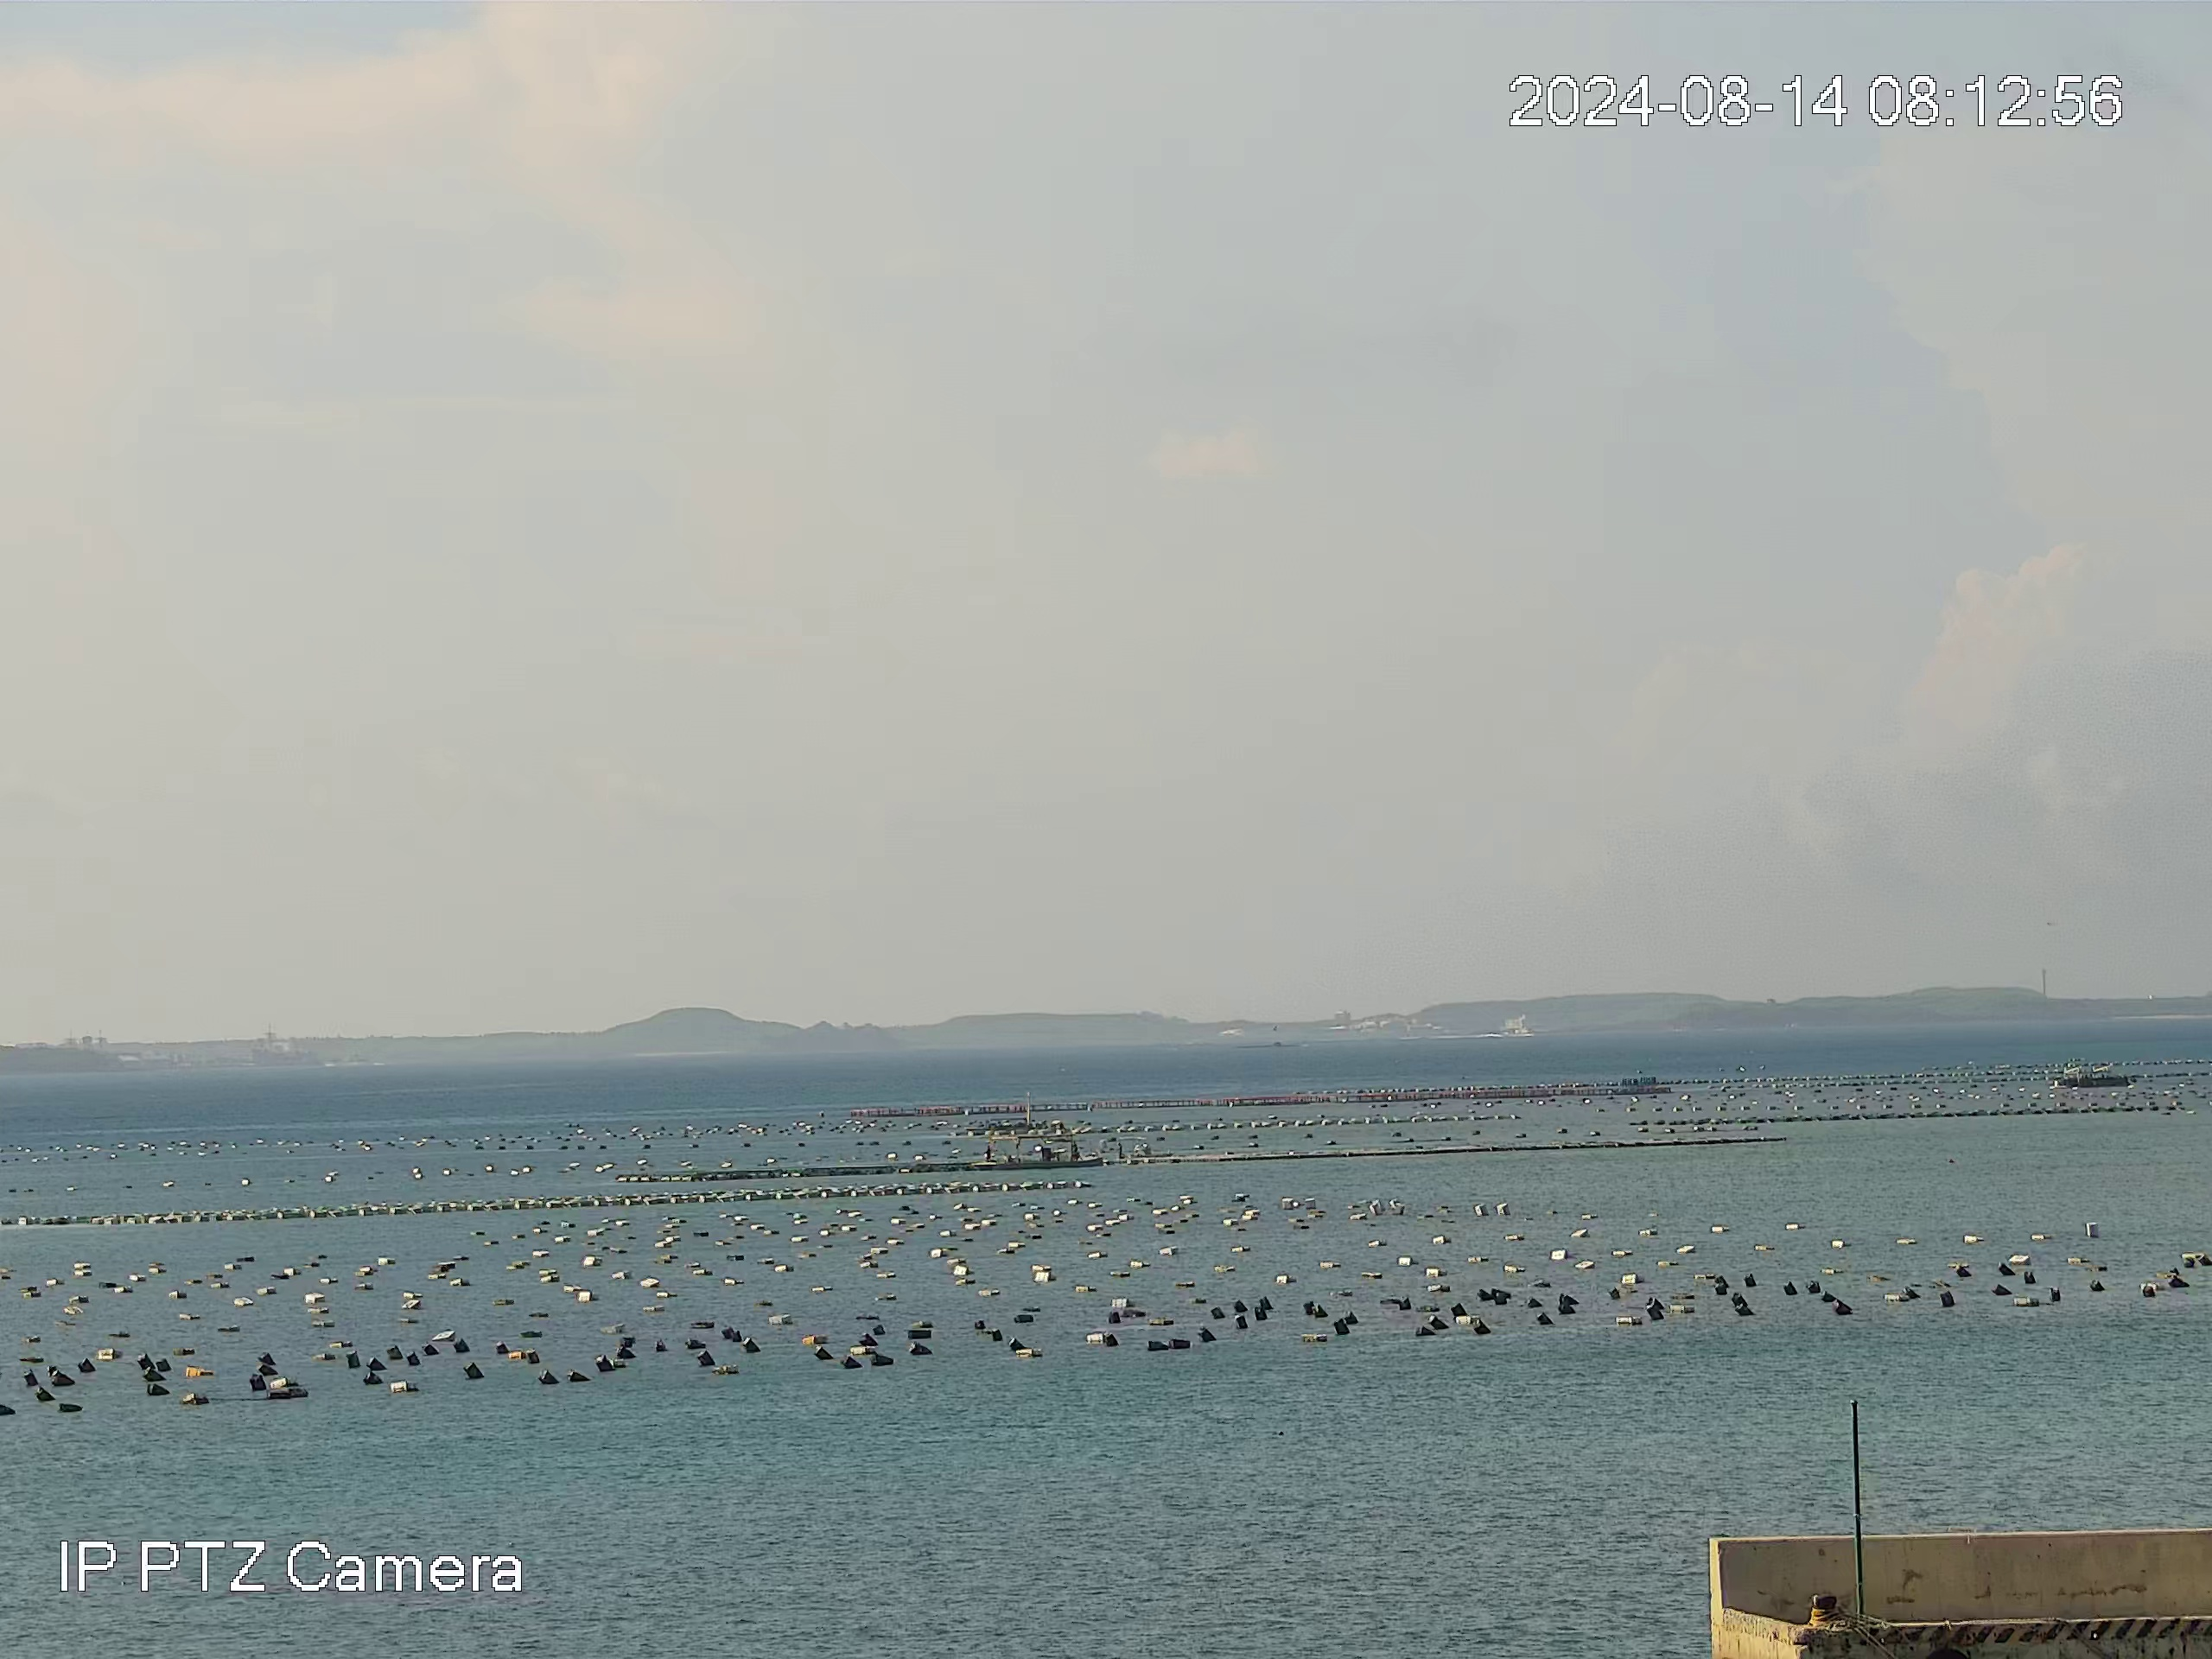boat: (974, 1121, 1103, 1169), (2054, 1058, 2139, 1093)
